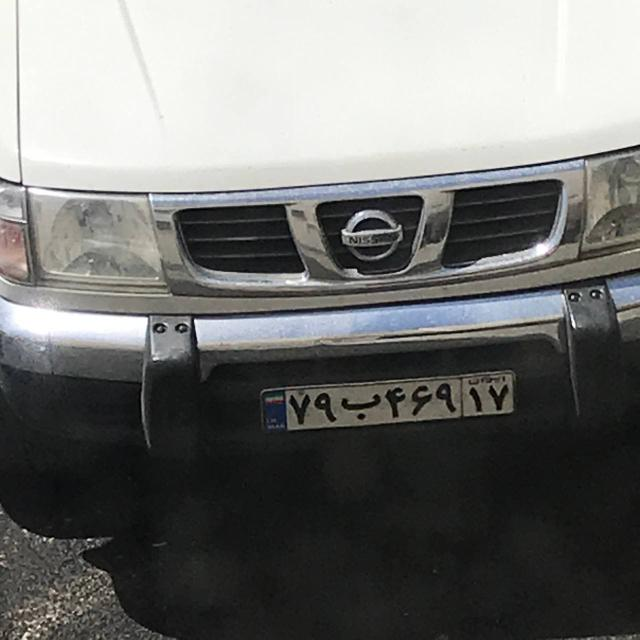Plates: (261, 370, 516, 432)
